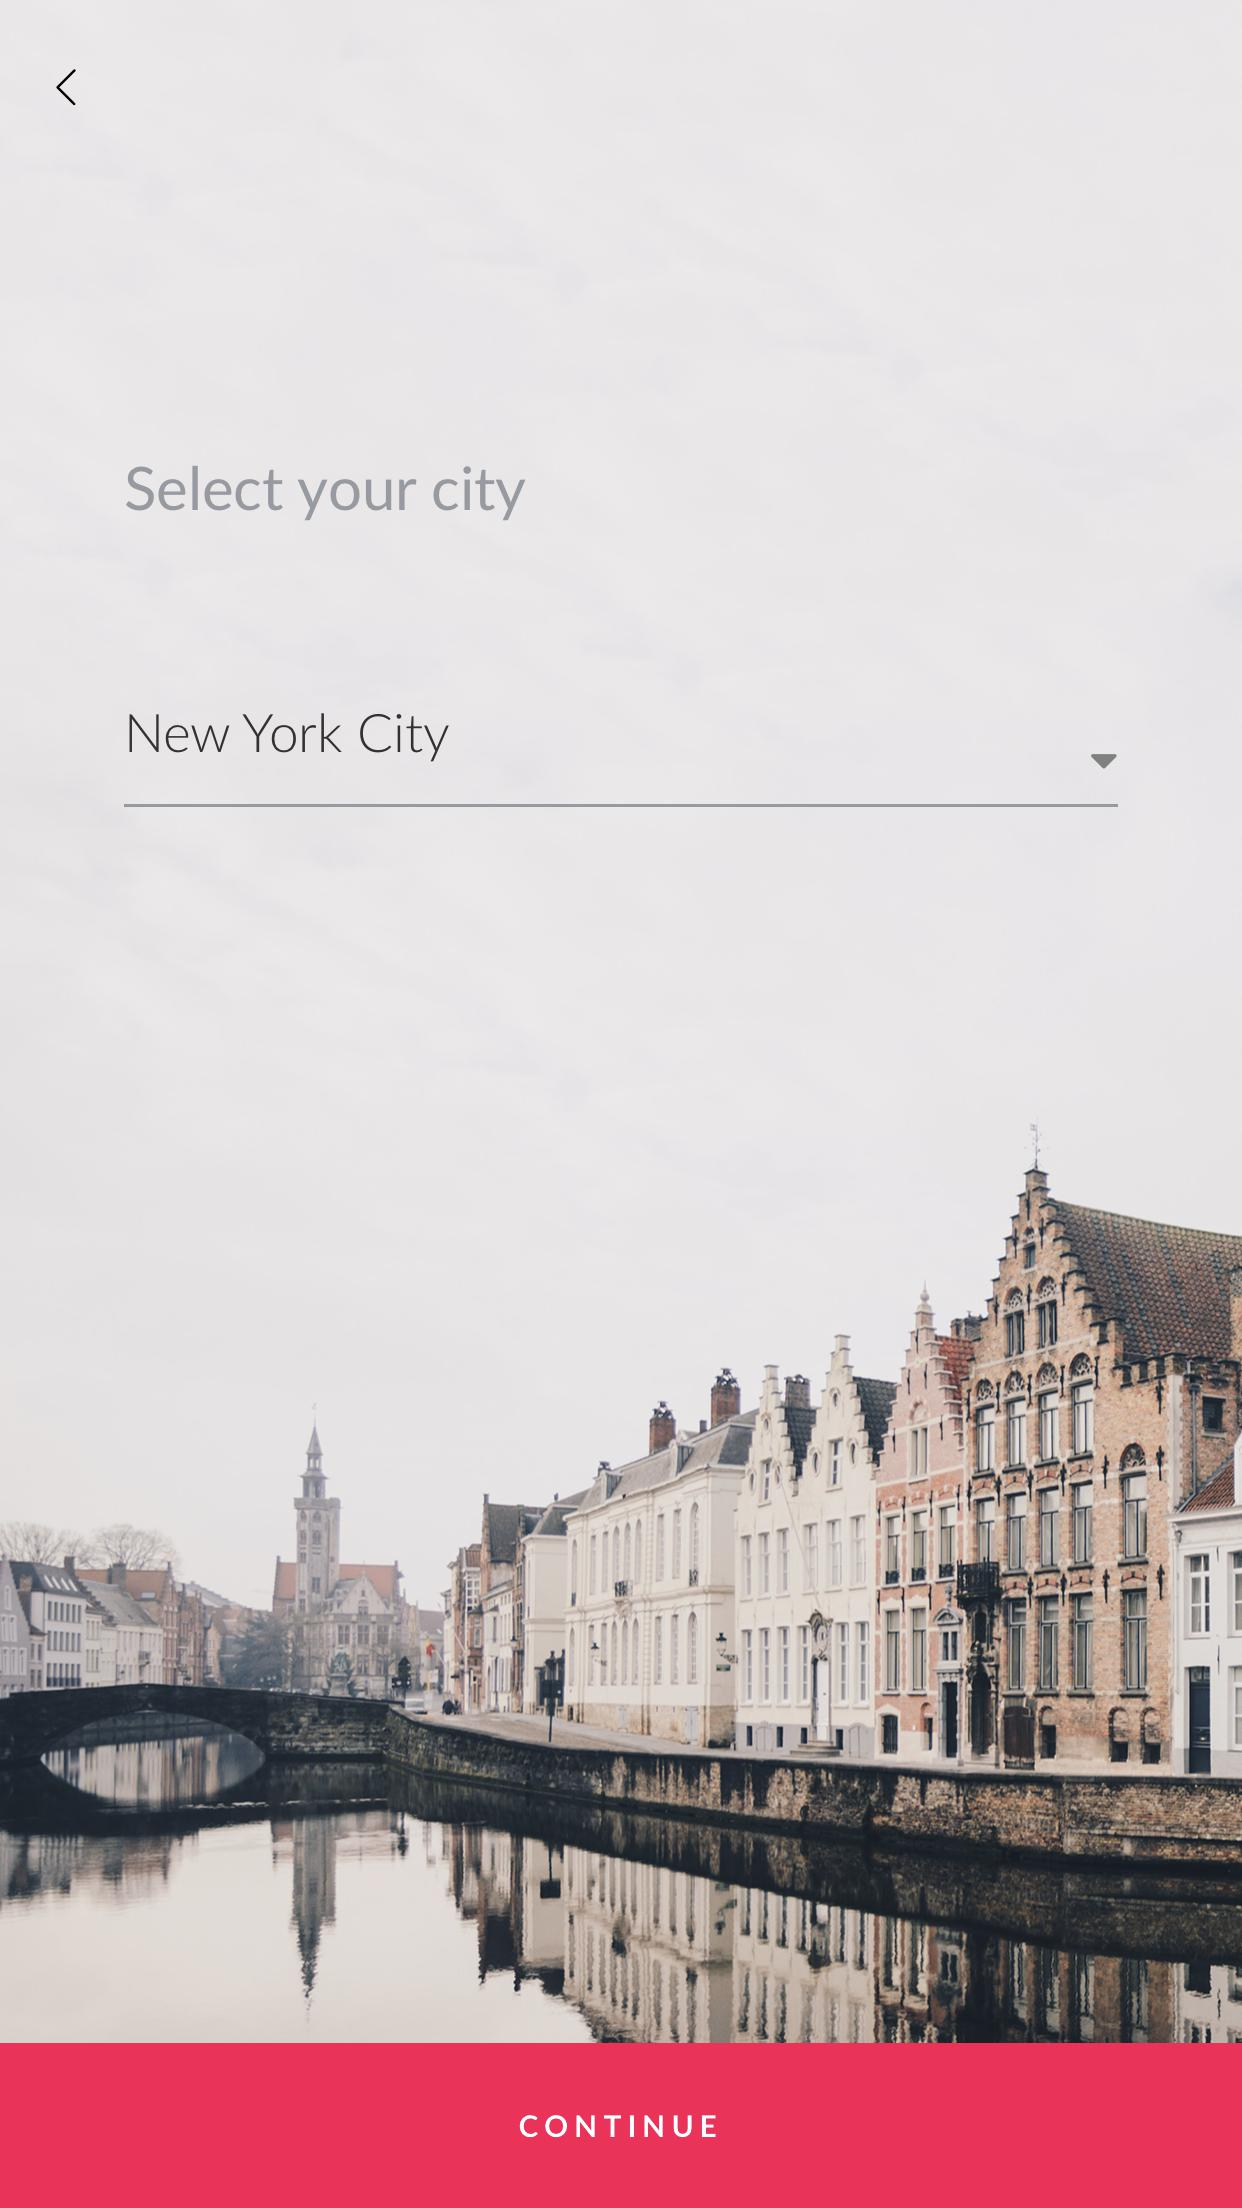BackgroundImage: (2, 2, 1242, 2043)
Icon: (58, 70, 79, 108), (1089, 754, 1119, 770)
Text: (126, 466, 528, 522), (127, 713, 450, 761)
TextButton: (2, 2044, 1242, 2208)
